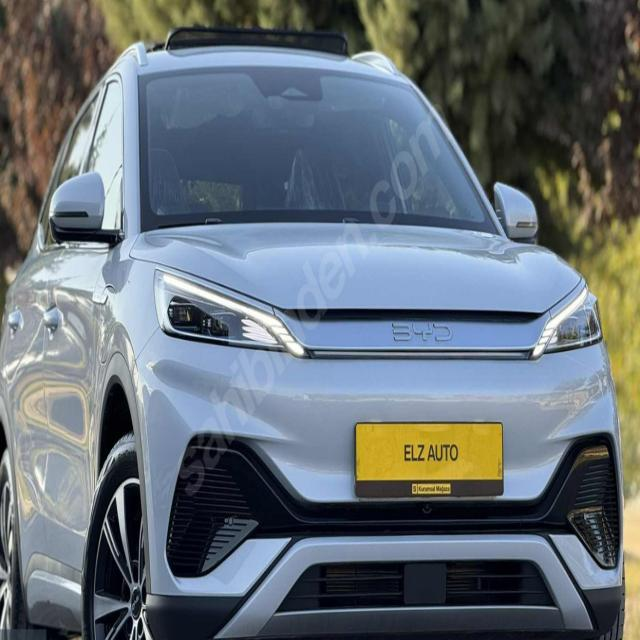byd: (382, 309, 457, 364)
